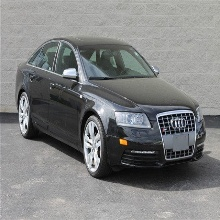no damage: (15, 36, 206, 178)
